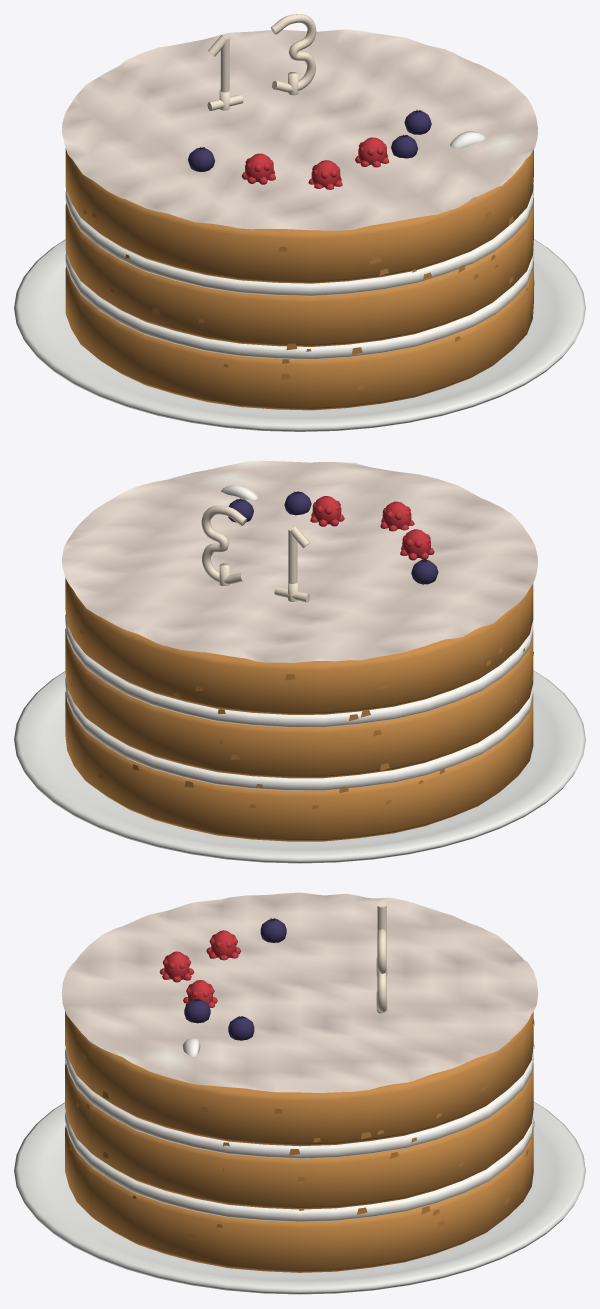
The model's file is cake-13.b9a8764d3f06.glb.
3 views of the same model, one above another, from view 1: azimuth 30°, elevation 25°; view 2: azimuth 150°, elevation 25°; view 3: azimuth 270°, elevation 25° (orthographic).
Visible parts, largest first — view 1: PART_FOOD_ROOT_MAT_sponge, Irregular_hand_spread_food_surface, Clean_porcelain_plate, PART_FOOD_ROOT_MAT_cream, PART_FOOD_ROOT_MAT_number_wax, PART_FOOD_ROOT_MAT_strawberry, PART_FOOD_ROOT_MAT_berry; view 2: PART_FOOD_ROOT_MAT_sponge, Irregular_hand_spread_food_surface, Clean_porcelain_plate, PART_FOOD_ROOT_MAT_cream, PART_FOOD_ROOT_MAT_number_wax, PART_FOOD_ROOT_MAT_strawberry, PART_FOOD_ROOT_MAT_berry; view 3: PART_FOOD_ROOT_MAT_sponge, Irregular_hand_spread_food_surface, Clean_porcelain_plate, PART_FOOD_ROOT_MAT_cream, PART_FOOD_ROOT_MAT_strawberry, PART_FOOD_ROOT_MAT_berry, PART_FOOD_ROOT_MAT_number_wax.
Boxes of the visible parts, x1,y1,x2,y2 form: PART_FOOD_ROOT_MAT_sponge: (65, 148, 534, 410); Irregular_hand_spread_food_surface: (62, 29, 537, 230); Clean_porcelain_plate: (14, 239, 585, 431); PART_FOOD_ROOT_MAT_cream: (65, 131, 533, 359); PART_FOOD_ROOT_MAT_number_wax: (207, 14, 316, 110); PART_FOOD_ROOT_MAT_strawberry: (241, 137, 389, 189); PART_FOOD_ROOT_MAT_berry: (188, 110, 431, 171); PART_FOOD_ROOT_MAT_sponge: (65, 578, 533, 841); Irregular_hand_spread_food_surface: (62, 460, 537, 662); Clean_porcelain_plate: (14, 670, 585, 863); PART_FOOD_ROOT_MAT_cream: (65, 485, 533, 790); PART_FOOD_ROOT_MAT_number_wax: (201, 505, 310, 602); PART_FOOD_ROOT_MAT_strawberry: (310, 496, 434, 560); PART_FOOD_ROOT_MAT_berry: (228, 492, 438, 584); PART_FOOD_ROOT_MAT_sponge: (65, 1011, 534, 1272); Irregular_hand_spread_food_surface: (61, 892, 538, 1092); Clean_porcelain_plate: (14, 1101, 585, 1294); PART_FOOD_ROOT_MAT_cream: (65, 1038, 533, 1222); PART_FOOD_ROOT_MAT_strawberry: (159, 930, 240, 1007); PART_FOOD_ROOT_MAT_berry: (184, 919, 286, 1040); PART_FOOD_ROOT_MAT_number_wax: (376, 901, 387, 1013).
Bounding box in the file's own units: 0.1952 × 0.101 × 0.1952.
